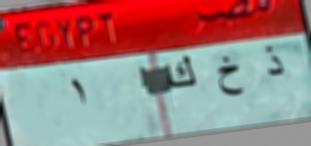1: (68, 73, 90, 111)
kaaf: (163, 51, 200, 94)
khaa: (210, 53, 247, 101)
zaal: (259, 43, 289, 84)
